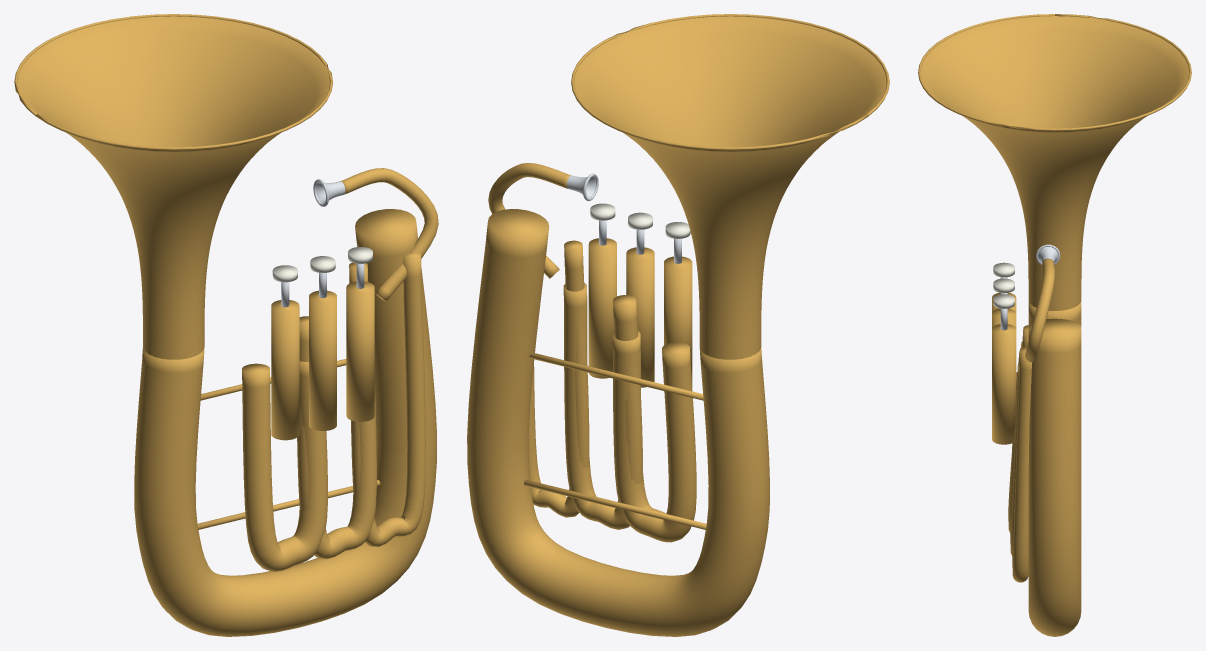
Rendered from tuba.glb.
3 renders of one model, left to right at view 1: azimuth 30°, elevation 25°; view 2: azimuth 150°, elevation 25°; view 3: azimuth 270°, elevation 25°, orthographic. The views are drawn at different scales.
Parts seen in each view (by area): view 1: tuba — Laiton poli, tuba — Maillechort argente, tuba — Nacre; view 2: tuba — Laiton poli, tuba — Maillechort argente, tuba — Nacre; view 3: tuba — Laiton poli, tuba — Nacre, tuba — Maillechort argente.
Part boxes in pixels (left/top/right/bottom): tuba — Laiton poli: left=14, top=14, right=438, bottom=636; tuba — Maillechort argente: left=281, top=179, right=364, bottom=307; tuba — Nacre: left=272, top=247, right=372, bottom=282; tuba — Laiton poli: left=467, top=14, right=889, bottom=636; tuba — Maillechort argente: left=567, top=173, right=681, bottom=263; tuba — Nacre: left=590, top=203, right=690, bottom=238; tuba — Laiton poli: left=918, top=14, right=1191, bottom=636; tuba — Nacre: left=993, top=262, right=1014, bottom=308; tuba — Maillechort argente: left=1000, top=244, right=1060, bottom=330.
Bounding box in the file's own units: 0.5813 × 0.8022 × 0.404.
